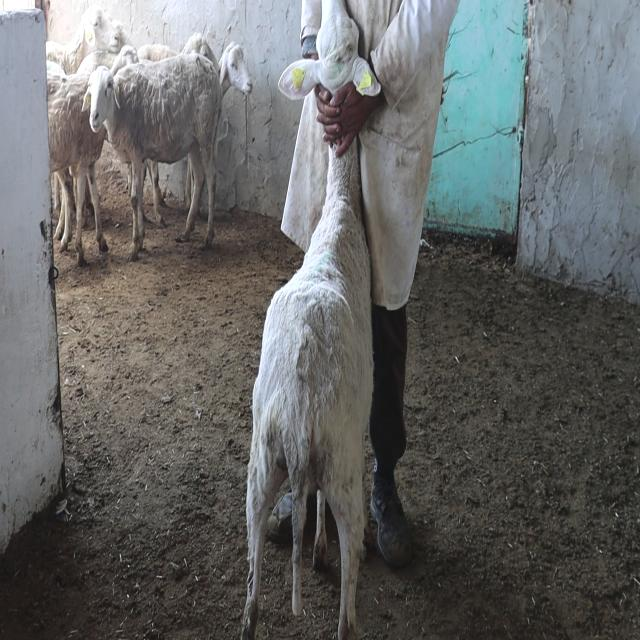Score_3: (241, 141, 373, 639)
